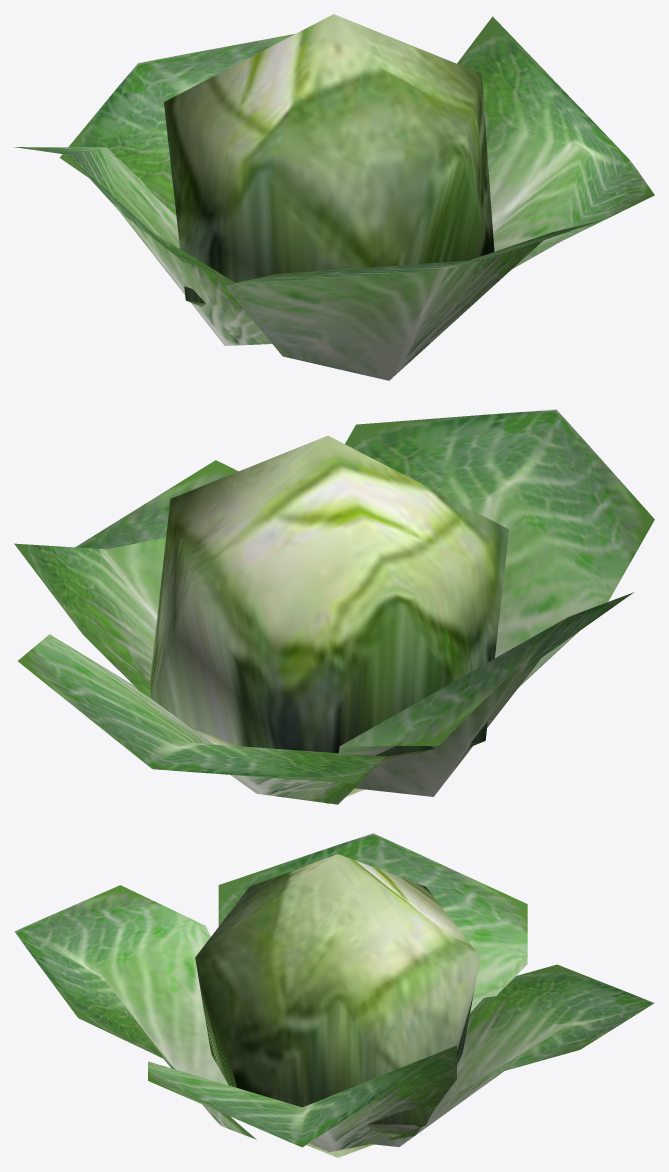
The model's file is Cabbage.FBX.
The picture shows the model from 3 angles, top to bottom: view 1: azimuth 30°, elevation 25°; view 2: azimuth 150°, elevation 25°; view 3: azimuth 270°, elevation 25°; orthographic projection. The views are drawn at different scales.
Visible parts, largest first — view 1: Cabbage; view 2: Cabbage; view 3: Cabbage.
Boxes of the visible parts, x1=… form: Cabbage: x1=14, y1=14, x2=654, y2=380; Cabbage: x1=14, y1=409, x2=654, y2=804; Cabbage: x1=14, y1=833, x2=654, y2=1157.
Bounding box in the file's own units: 57.87 × 36.65 × 70.03.
